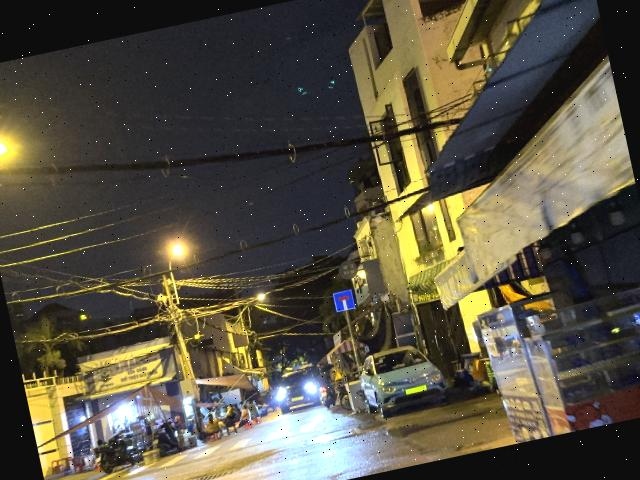duong-cut: (332, 290, 354, 312)
